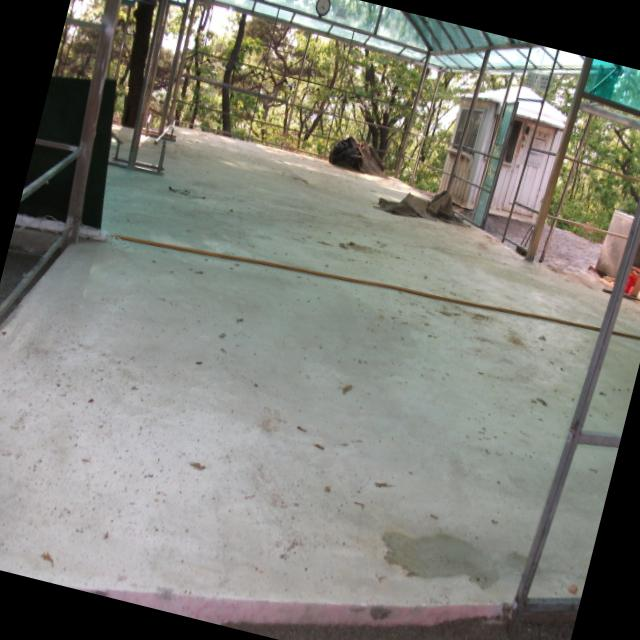cement: (0, 131, 607, 604), (530, 444, 618, 596), (583, 335, 640, 434), (615, 299, 640, 334)
